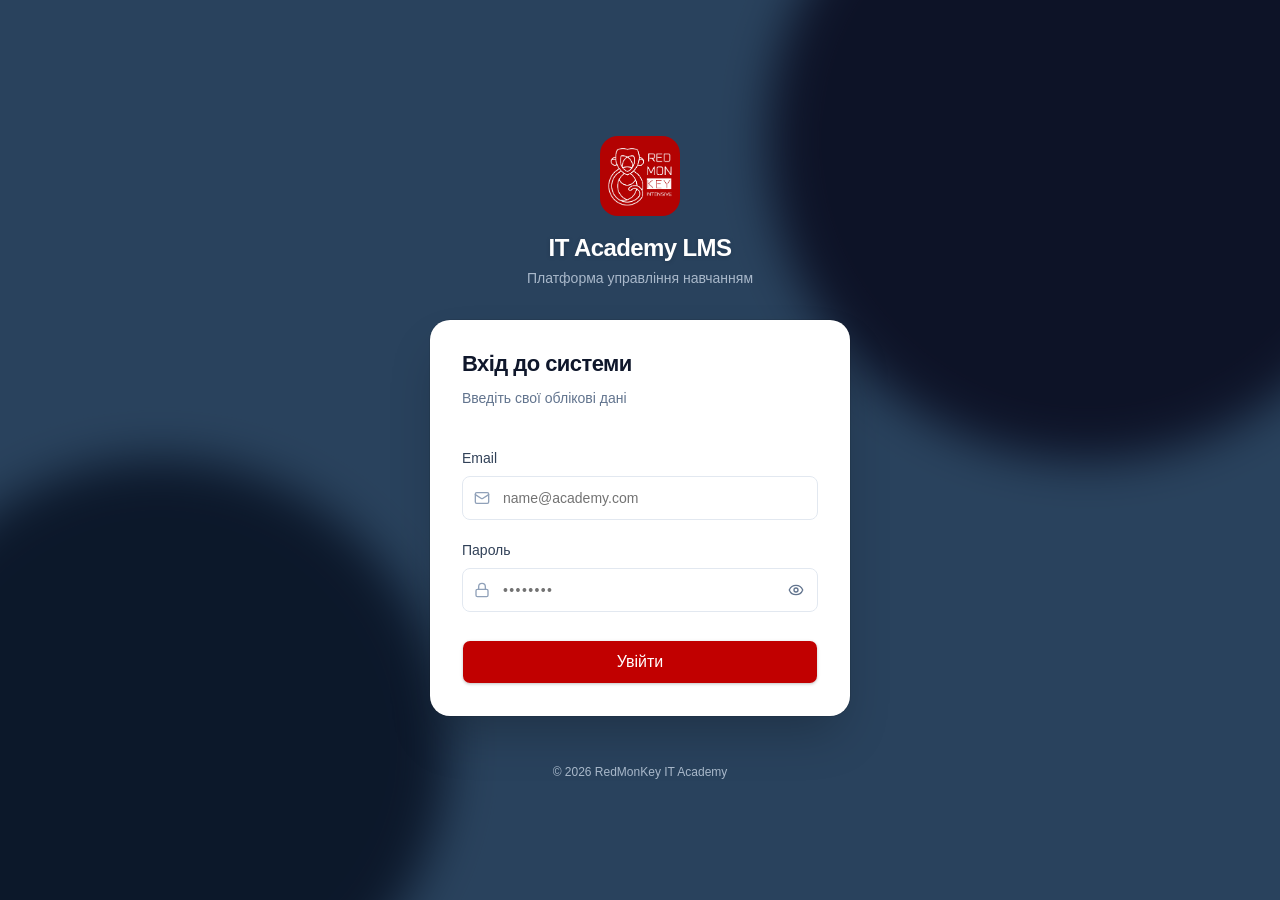
Test case: LoginPage › показує причину відмови від бекенда, без спроби рефрешу
In the field labelled "Email": (640, 498) 462,476 -> 818,520, type "anna@academy.ua"
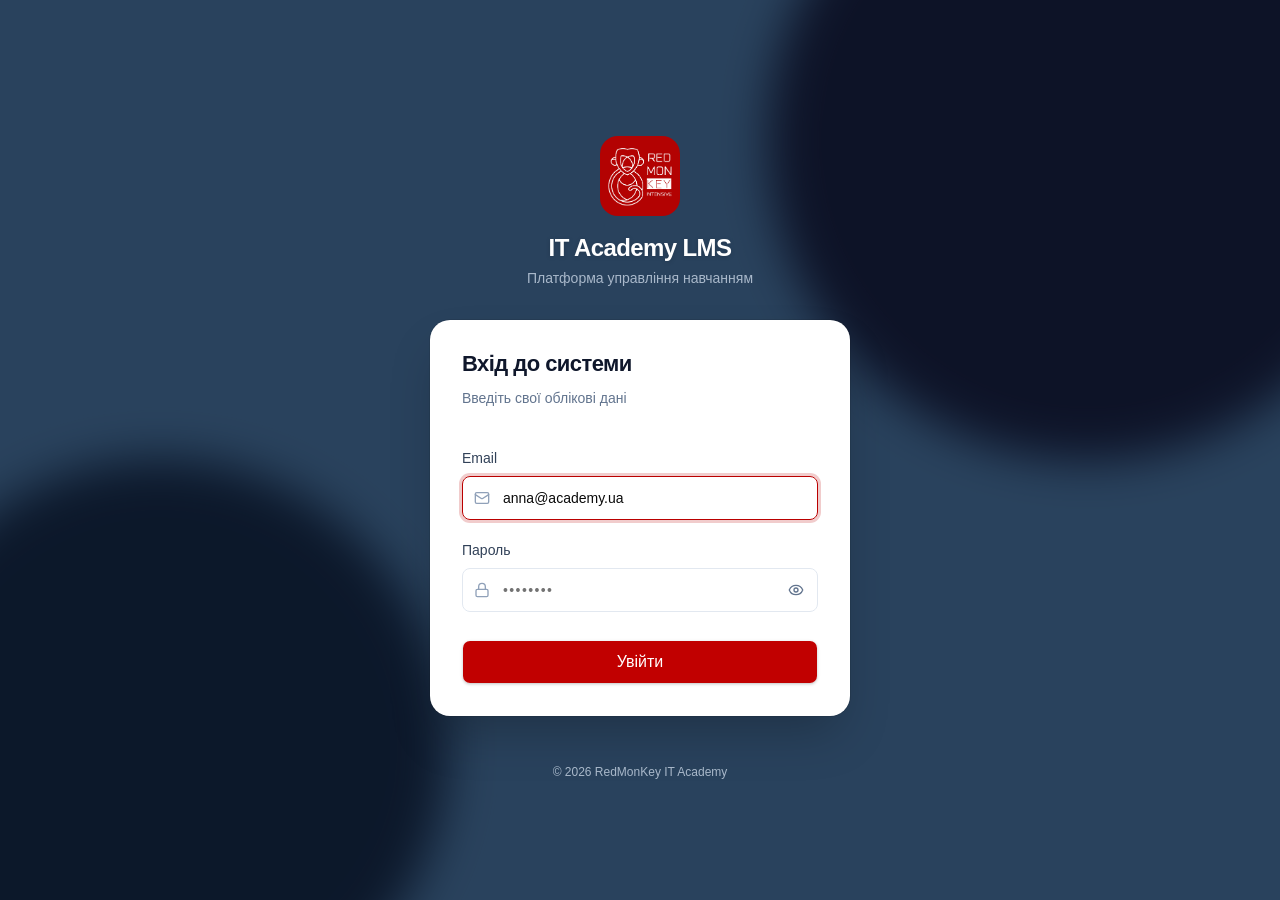
In the password field with placeholder "••••••••": (640, 590) 462,568 -> 818,612, type "wrong-password"
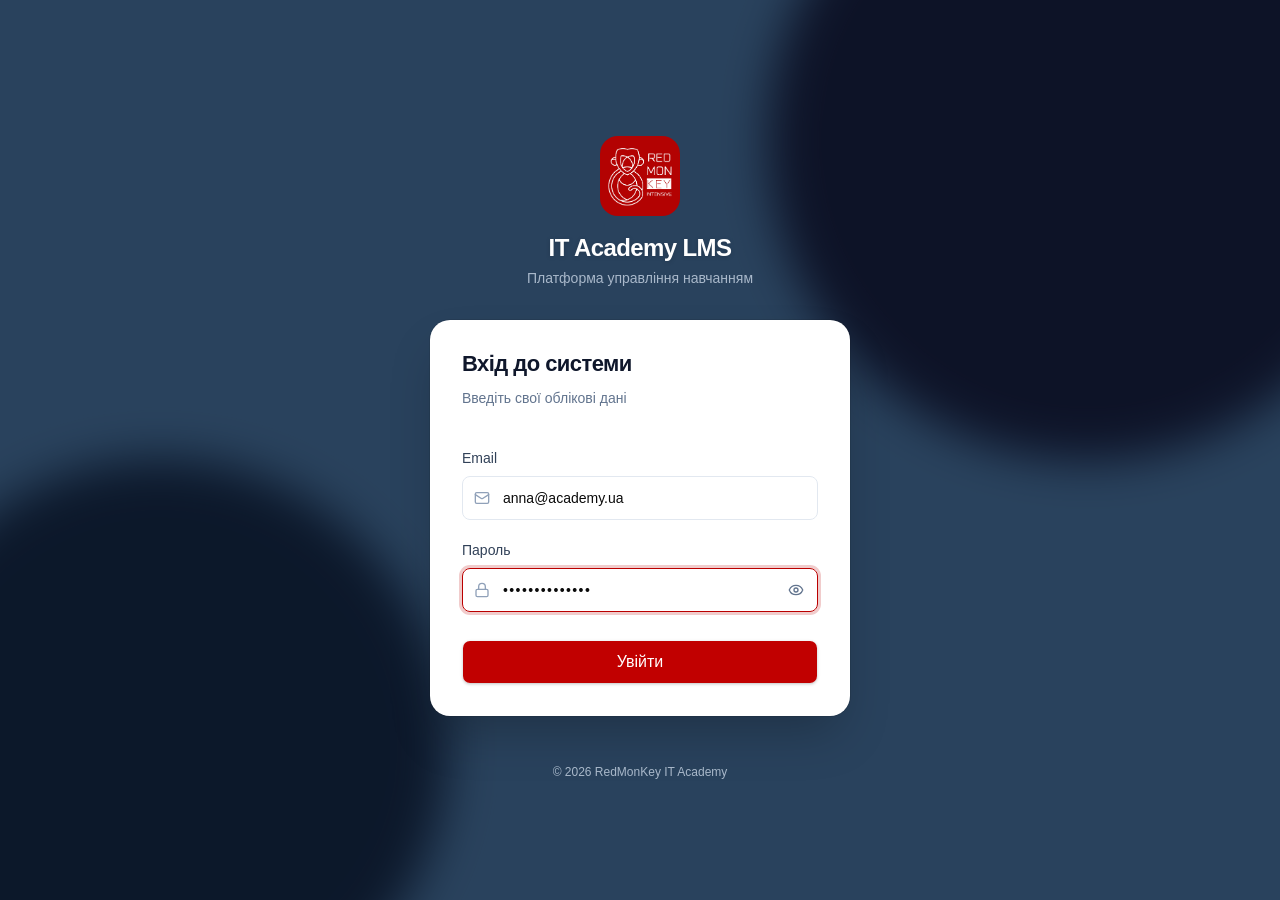
Click the button "Увійти": click(640, 662) 462,640 -> 818,684
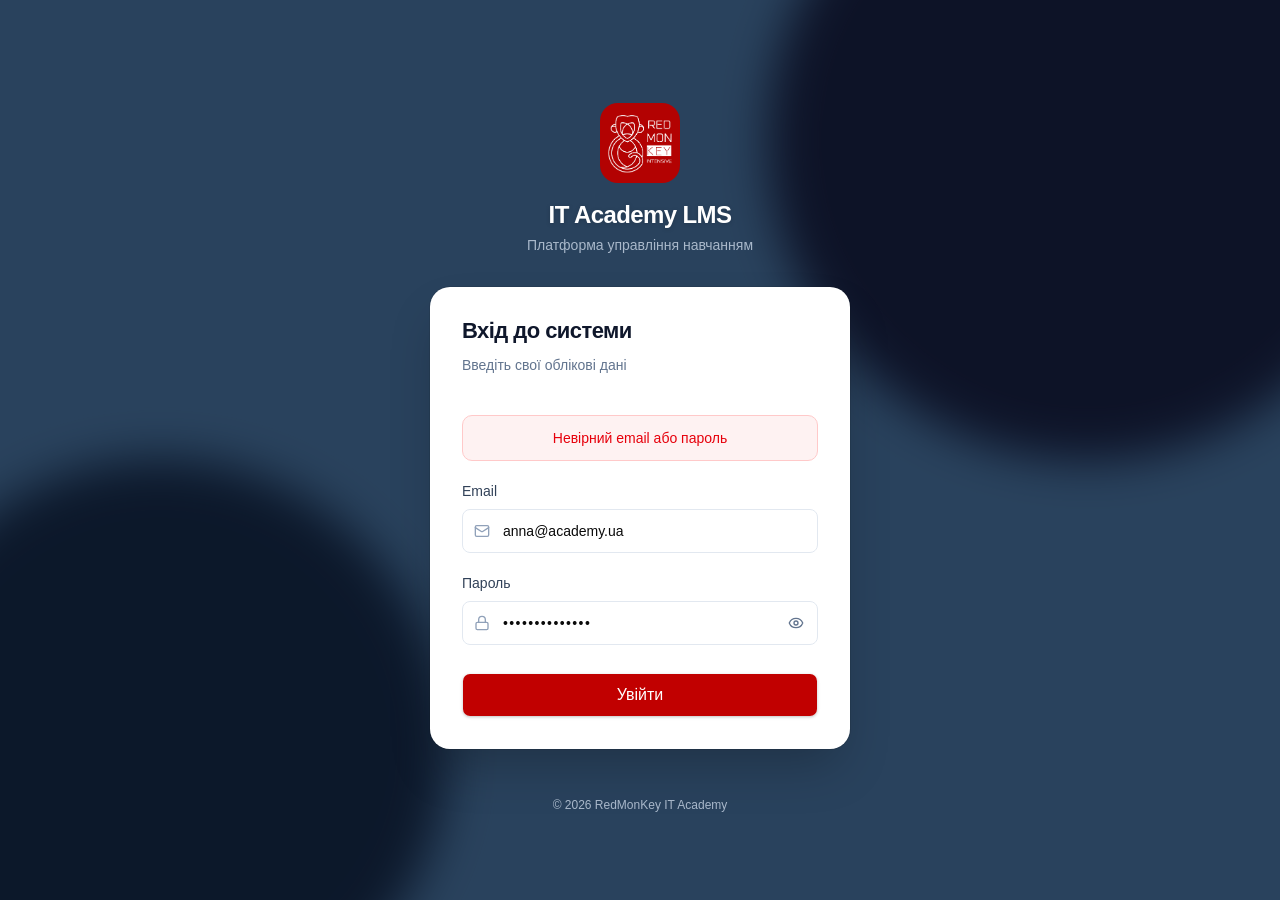
Expected: the text "Невірний email або пароль" is shown, 462,415 -> 818,461
